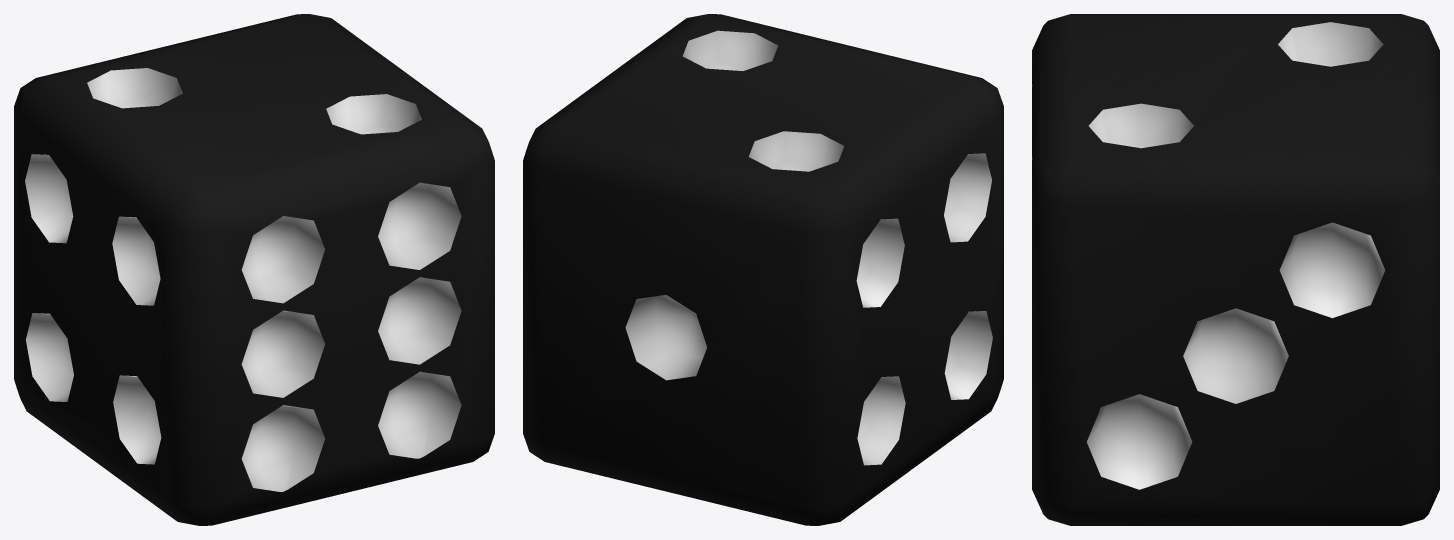
File: Dice_V2_0.fbx
The picture shows the model from 3 angles, left to right: view 1: azimuth 30°, elevation 25°; view 2: azimuth 150°, elevation 25°; view 3: azimuth 270°, elevation 25°; orthographic projection. The views are drawn at different scales.
Visible parts, largest first — view 1: Dice_V2_0; view 2: Dice_V2_0; view 3: Dice_V2_0.
Boxes of the visible parts, x1,y1,x2,y2 form: Dice_V2_0: (14, 14, 494, 525); Dice_V2_0: (523, 14, 1003, 525); Dice_V2_0: (1032, 14, 1439, 525).
Size of the model in its own units: 0.3276 by 0.3276 by 0.3276.
